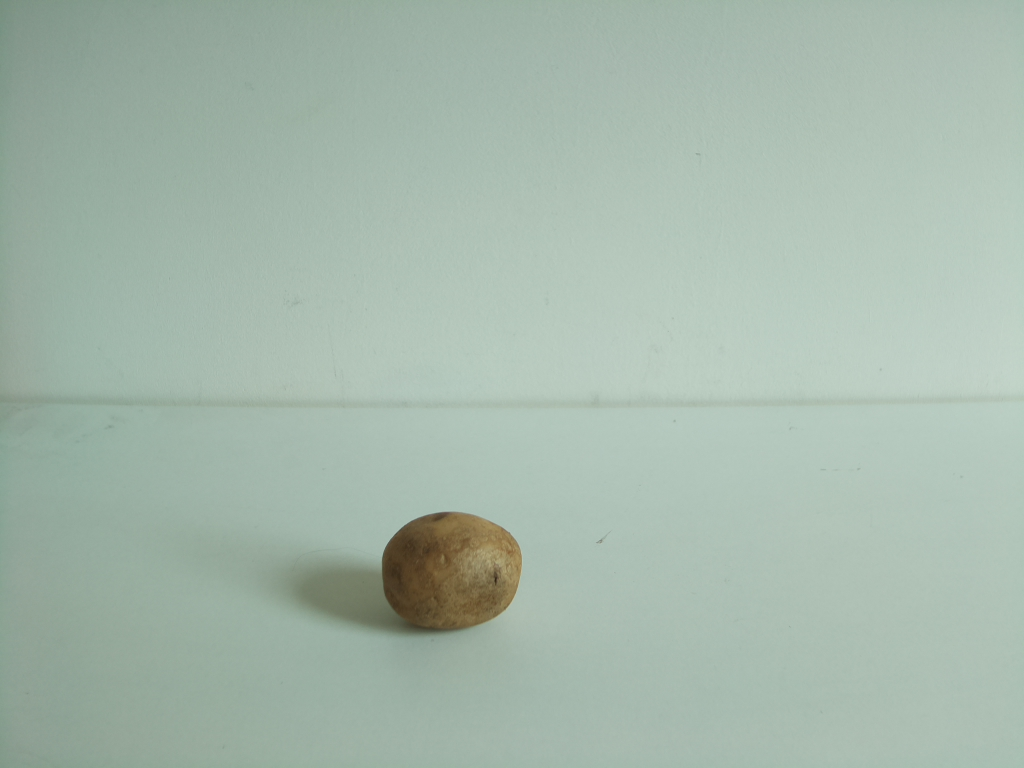potatoes: (380, 510, 522, 635)
